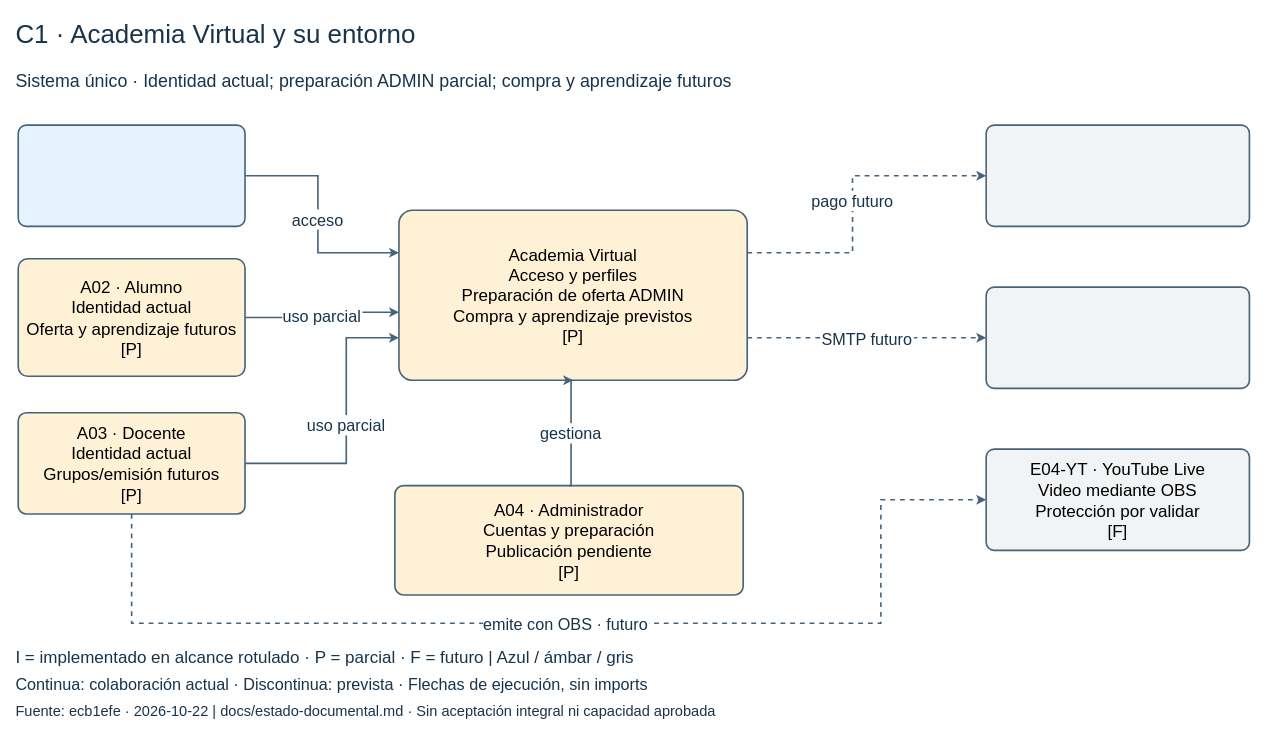
Image size: 1275x735. Some labels were removed from this diagram. The shapes that lost their labels are listed below. From the top down, each one's centre as x and y in pixels, then its label:
At point (131, 175): "A01 · Visitante Registro, verificación y acceso [I]".
At point (1117, 175): "E01 · Izipay Pago verificado Integración pendiente [F]".
At point (1117, 337): "E02 · Correo externo Entrega real Proveedor pendiente [F]".
